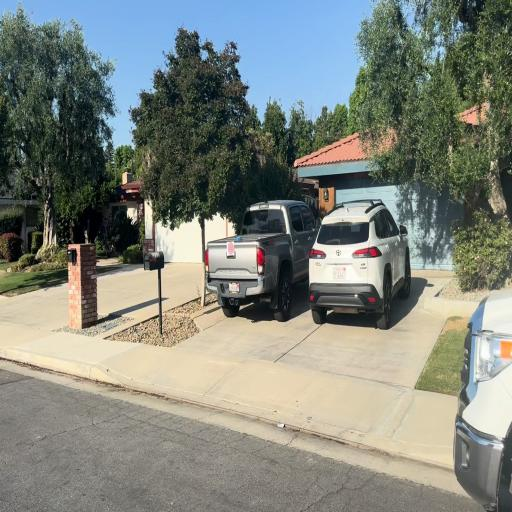bullseye: (227, 241, 235, 255)
